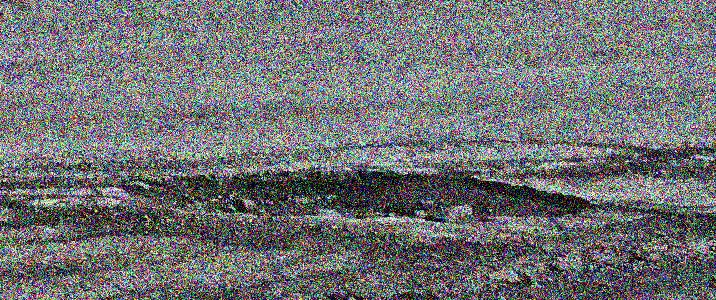pothole: (121, 159, 597, 224)
